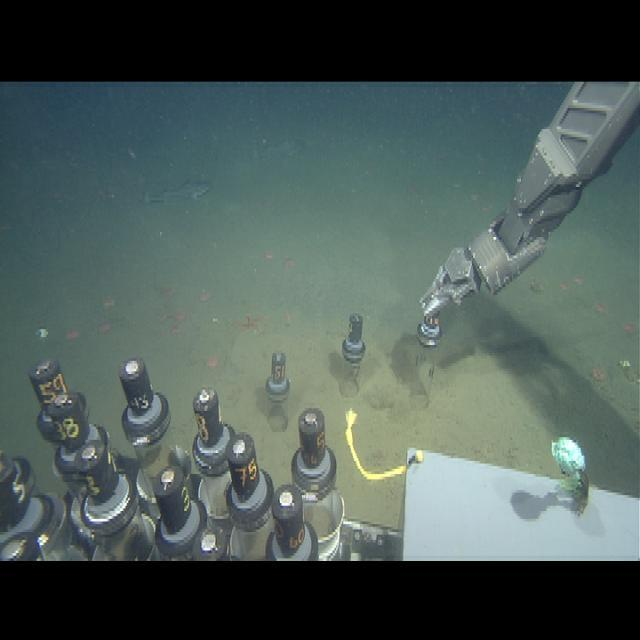Brittle Star: (232, 309, 271, 340)
Not Brittle Star: (333, 304, 370, 399), (142, 178, 212, 208), (251, 137, 304, 166), (62, 324, 84, 346), (95, 317, 116, 338), (203, 352, 222, 374), (100, 291, 119, 312), (590, 364, 608, 384), (593, 299, 611, 319), (196, 287, 214, 307), (161, 283, 179, 302), (172, 307, 190, 325), (281, 254, 297, 273), (262, 246, 276, 265), (558, 279, 572, 295), (167, 324, 182, 338)
